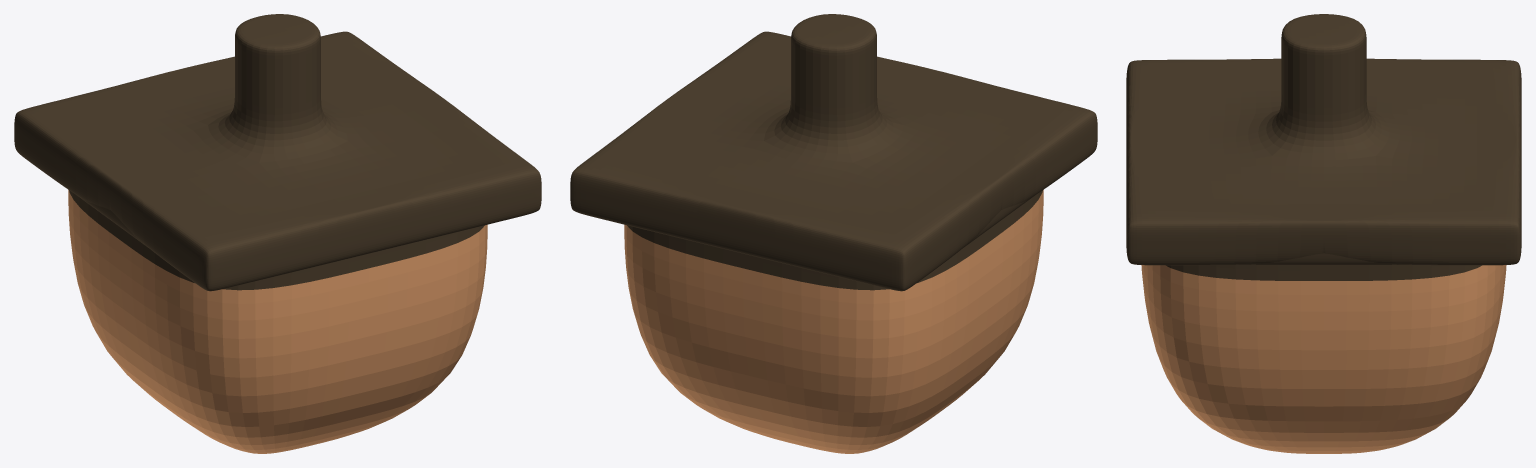
File: Acorn.fbx
3 renders of one model, left to right at view 1: azimuth 30°, elevation 25°; view 2: azimuth 150°, elevation 25°; view 3: azimuth 270°, elevation 25°, orthographic.
Visible parts, largest first — view 1: Cube; view 2: Cube; view 3: Cube.
Boxes of the visible parts, bbox=[...] form: Cube: bbox=[14, 14, 541, 453]; Cube: bbox=[570, 14, 1097, 453]; Cube: bbox=[1126, 14, 1521, 453].
Size of the model in its own units: 214 by 253 by 215.
